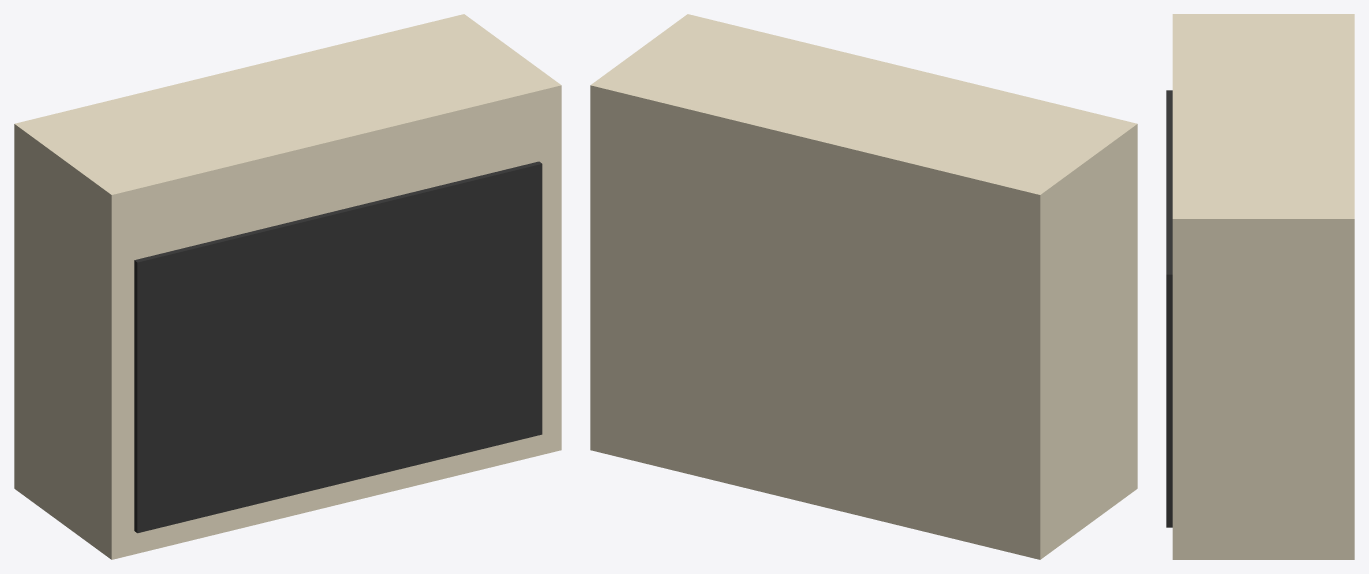
The model's file is lwf_stage_set_indie_v1.glb.
The picture shows the model from 3 angles, left to right: view 1: azimuth 30°, elevation 25°; view 2: azimuth 150°, elevation 25°; view 3: azimuth 270°, elevation 25°; orthographic projection. The views are drawn at different scales.
Visible parts, largest first — view 1: Props; view 2: Props; view 3: Props.
Part boxes in pixels (x1,y1,x2,y2): Props: (14,14,561,559); Props: (590,14,1137,559); Props: (1166,14,1354,559).
Size of what is drawn, in the model's own units: 0.8 by 0.62 by 0.31.
Materials: 1 (1 with a texture image).
